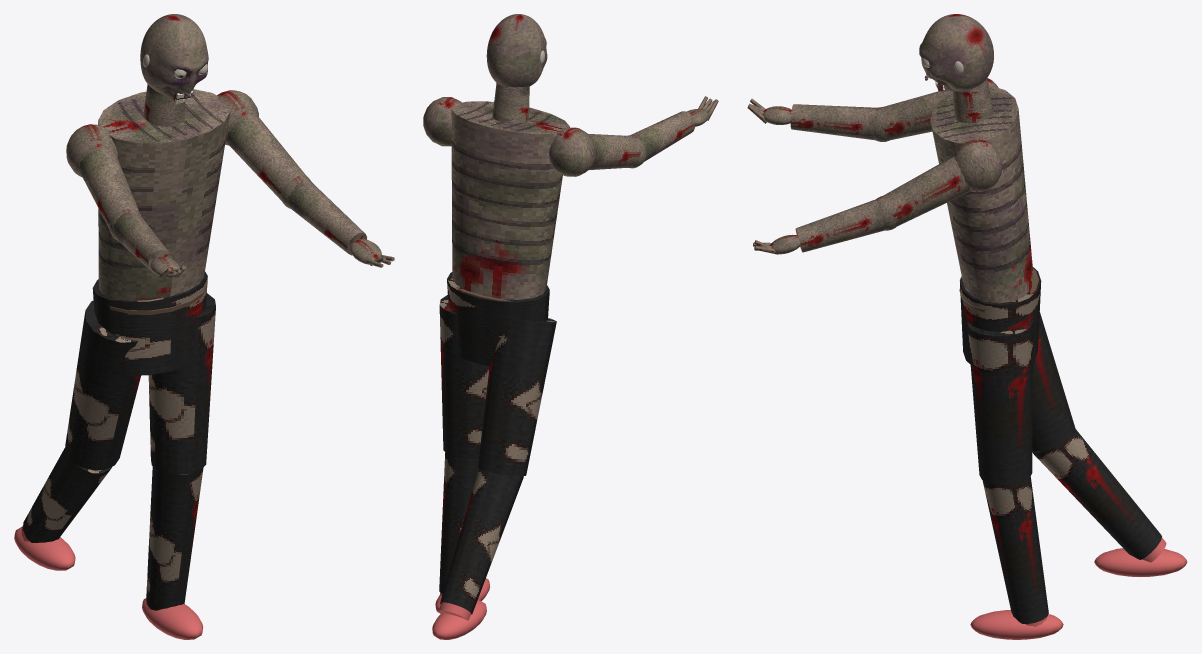
File: Zombie_120.glb
3 renders of one model, left to right at view 1: azimuth 30°, elevation 25°; view 2: azimuth 150°, elevation 25°; view 3: azimuth 270°, elevation 25°, orthographic. The views are drawn at different scales.
Parts seen in each view (by area): view 1: Zombie_120, object 16, object 10, object 3, object 11; view 2: Zombie_120, object 16, object 3; view 3: Zombie_120, object 16, object 10, object 3.
Part boxes in pixels (x1,y1,x2,y2): Zombie_120: (14, 84, 306, 639); object 16: (140, 14, 208, 99); object 10: (287, 180, 367, 255); object 3: (113, 211, 172, 273); object 11: (350, 239, 381, 264); Zombie_120: (423, 83, 641, 639); object 16: (486, 14, 547, 87); object 3: (630, 111, 694, 161); Zombie_120: (880, 78, 1187, 639); object 16: (919, 14, 993, 91); object 10: (795, 199, 885, 252); object 3: (790, 104, 877, 140).
Bounding box in the file's own units: 0.6692 × 1.79 × 1.18.
15 materials, 5 textured.
